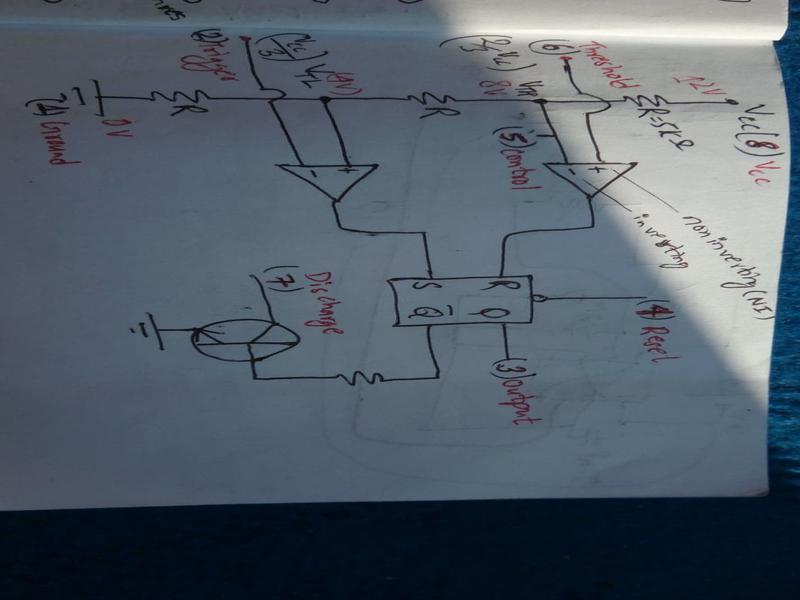resistor: (128, 77, 228, 115), (389, 86, 478, 115), (609, 91, 687, 115)
